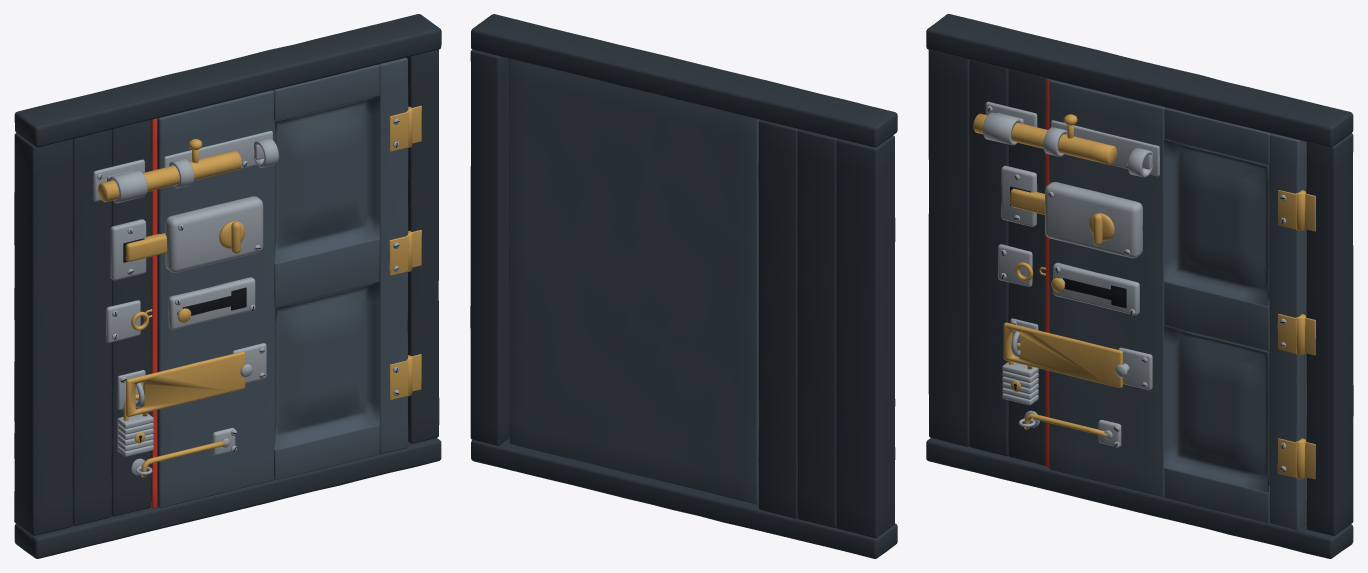
The model's file is door.glb.
3 renders of one model, left to right at view 1: azimuth 30°, elevation 25°; view 2: azimuth 150°, elevation 25°; view 3: azimuth 330°, elevation 25°, orthographic.
Parts seen in each view (by area): view 1: leaf, jamb, hasp, barrel, padlock, bolt, thumb, hook; view 2: leaf, jamb; view 3: leaf, jamb, hasp, barrel, padlock, bolt, thumb, hook.
Part boxes in pixels (x1=…): leaf: x1=150, y1=57, x2=408, y2=508; jamb: x1=14, y1=14, x2=441, y2=558; hasp: x1=126, y1=351, x2=252, y2=416; barrel: x1=98, y1=139, x2=241, y2=202; padlock: x1=117, y1=413, x2=153, y2=456; bolt: x1=125, y1=233, x2=166, y2=261; thumb: x1=219, y1=221, x2=244, y2=253; hook: x1=141, y1=438, x2=230, y2=477; leaf: x1=509, y1=59, x2=759, y2=504; jamb: x1=470, y1=14, x2=897, y2=558; leaf: x1=1043, y1=79, x2=1306, y2=530; jamb: x1=926, y1=14, x2=1353, y2=558; hasp: x1=1003, y1=322, x2=1129, y2=387; barrel: x1=973, y1=113, x2=1117, y2=165; padlock: x1=1002, y1=362, x2=1038, y2=405; bolt: x1=1010, y1=188, x2=1044, y2=214; thumb: x1=1089, y1=213, x2=1114, y2=245; hook: x1=1024, y1=413, x2=1112, y2=439.
Bounding box in the file's own units: 48.06 × 48.88 × 7.88.
